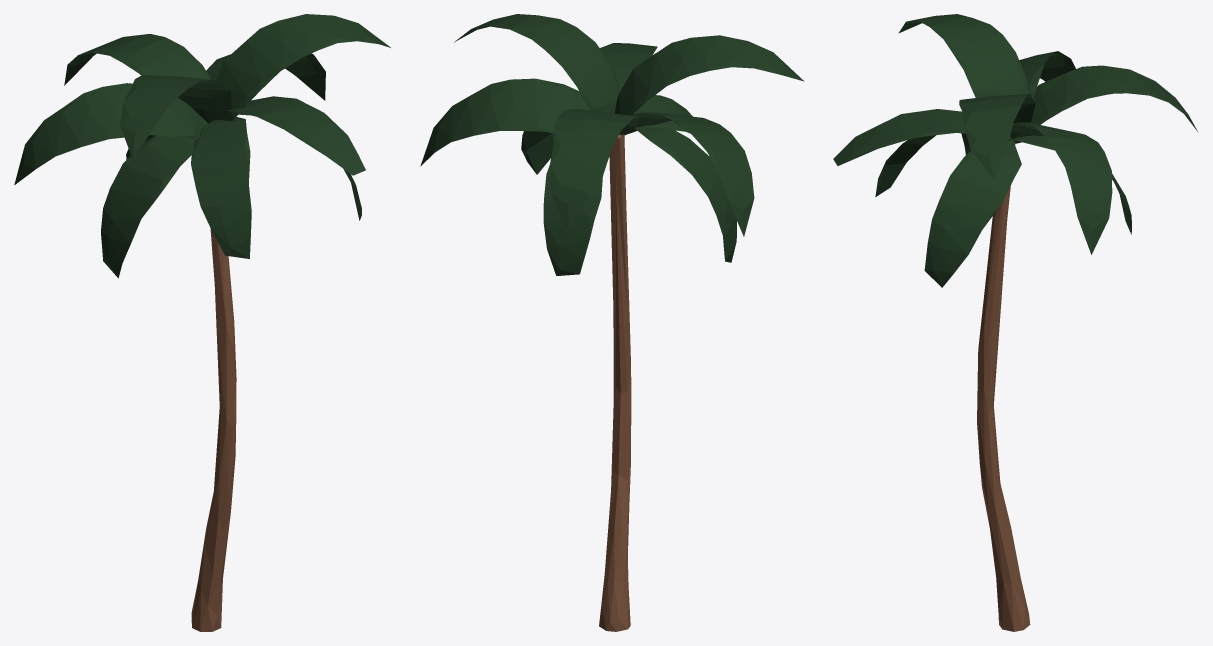
Rendered from SM_tree_palm_02.fbx.
3 views of the same model, side by side, from view 1: azimuth 30°, elevation 25°; view 2: azimuth 150°, elevation 25°; view 3: azimuth 270°, elevation 25° (orthographic). The views are drawn at different scales.
Visible parts, largest first — view 1: Group18626; view 2: Group18626; view 3: Group18626.
Boxes of the visible parts, bbox=[...] form: Group18626: bbox=[14, 14, 390, 631]; Group18626: bbox=[420, 14, 804, 631]; Group18626: bbox=[833, 14, 1198, 631].
Size of the model in its own units: 146 by 141 by 243.
